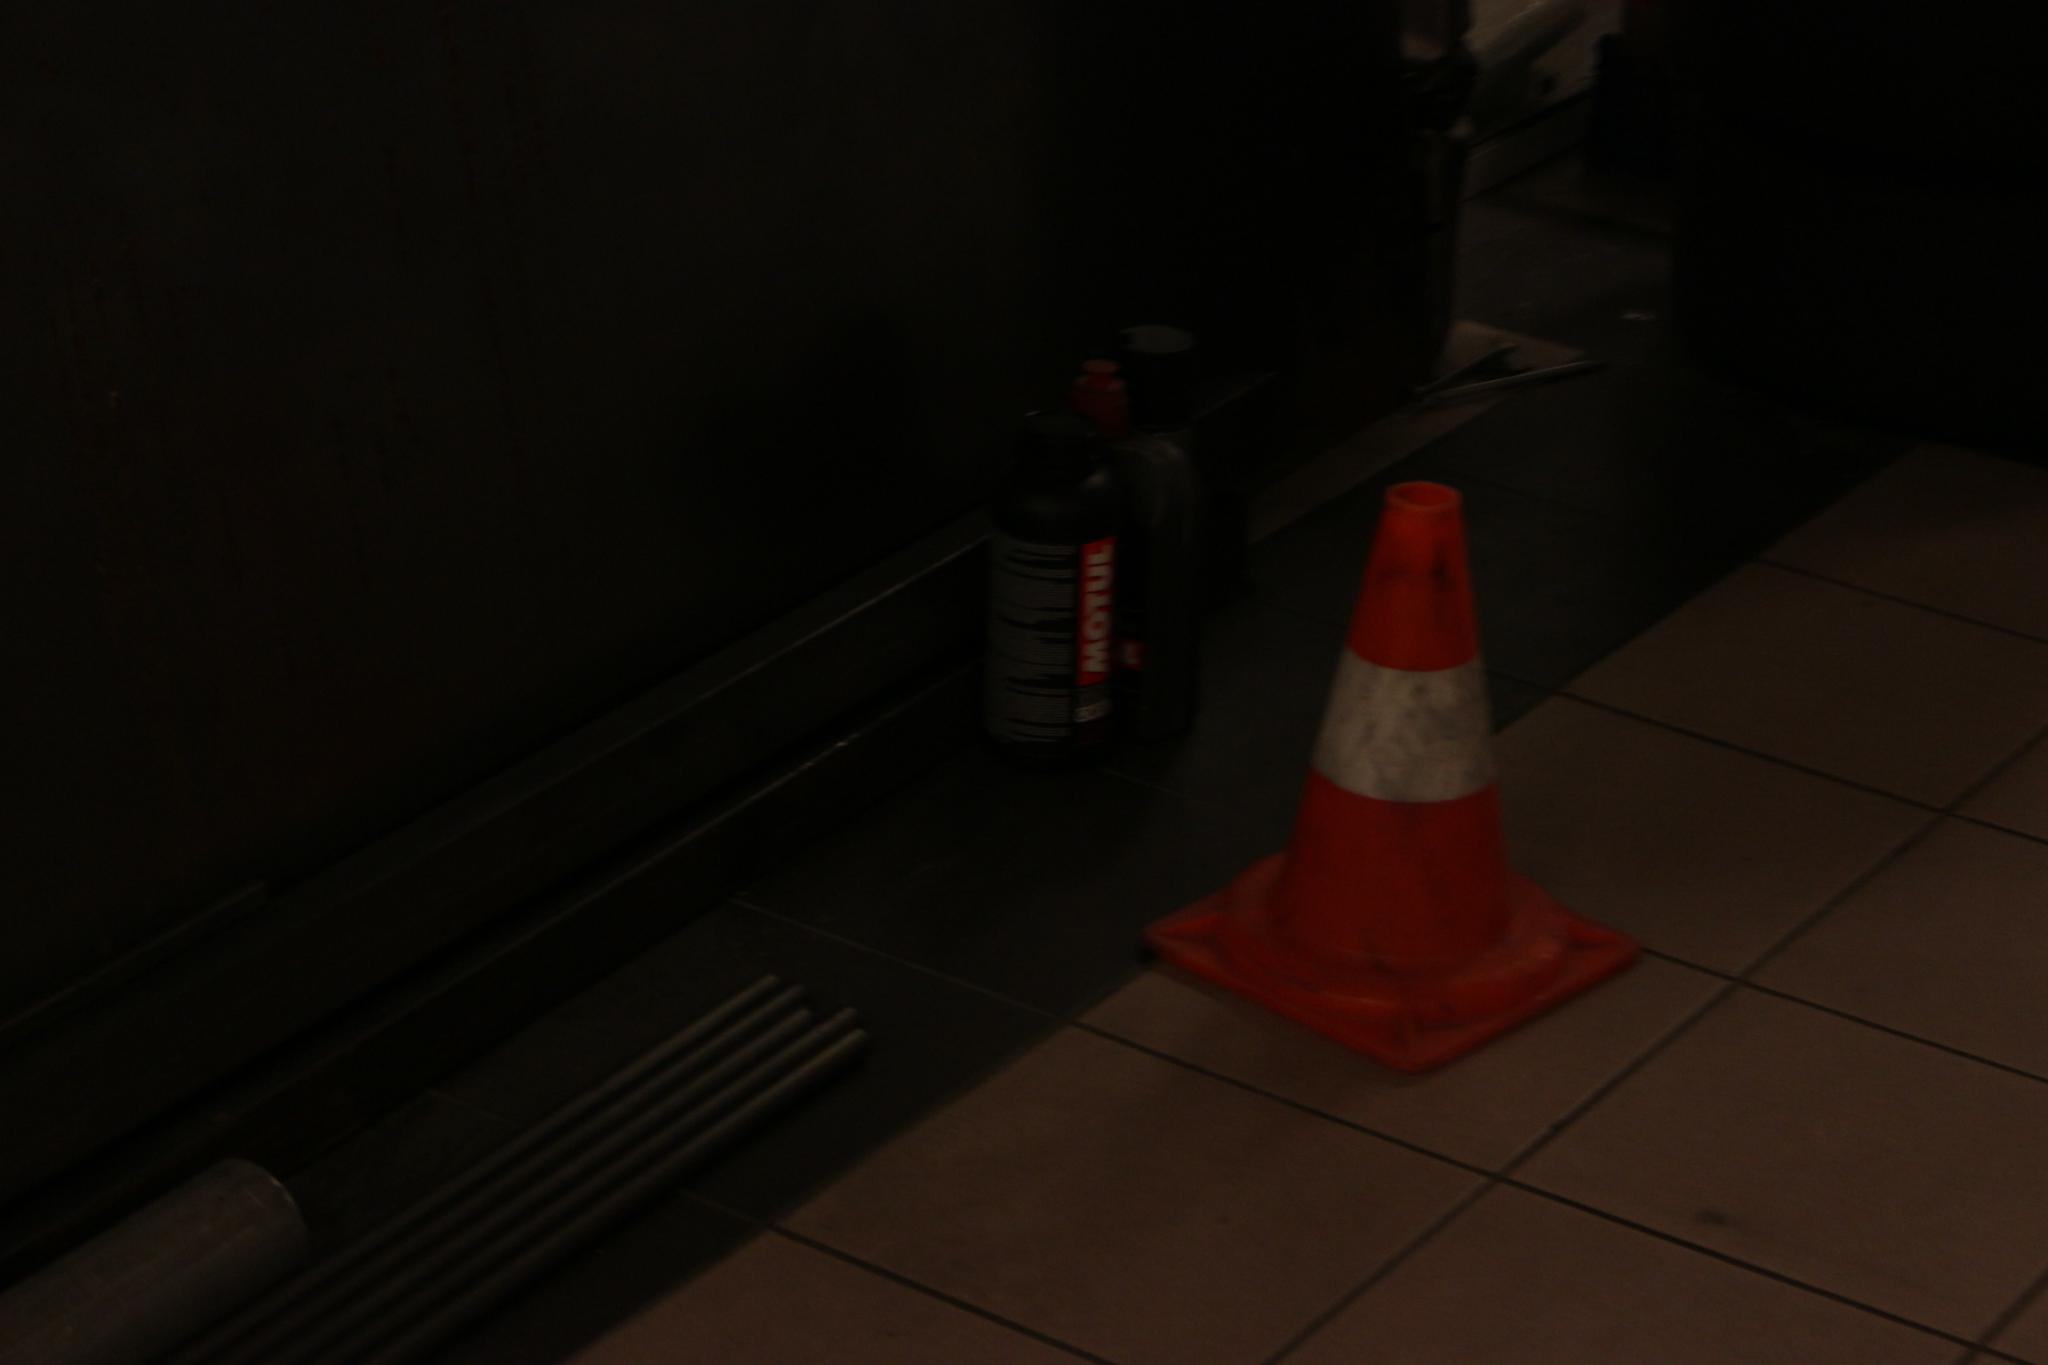Orange_Cone: (1206, 460, 1599, 1036)
